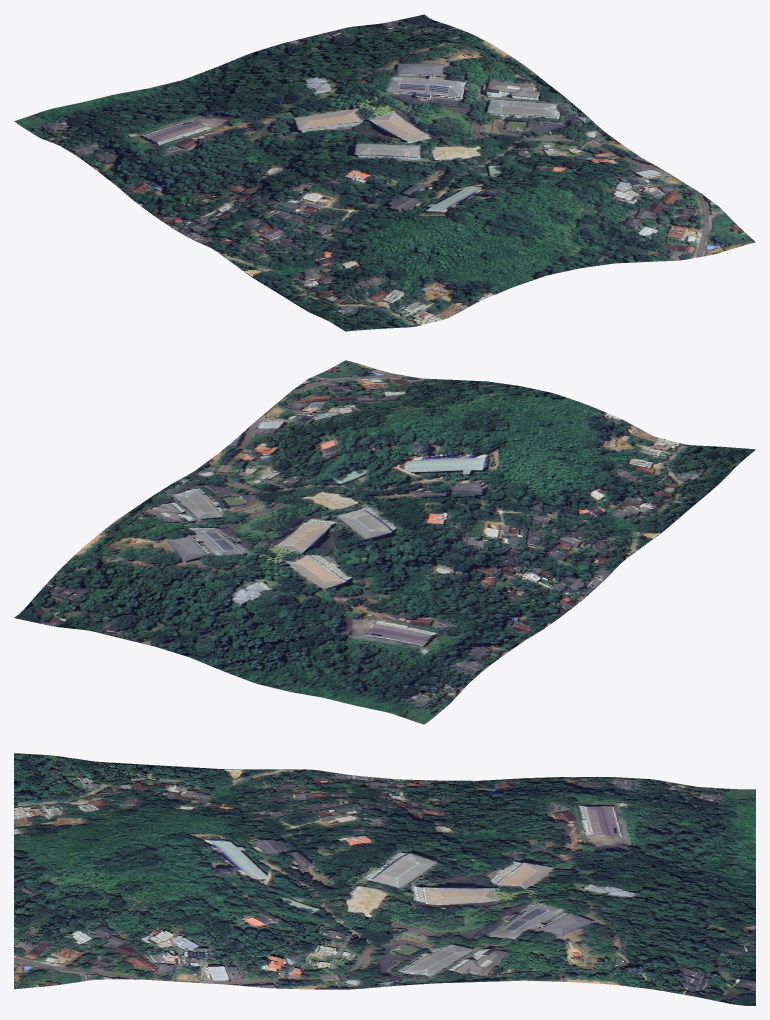
File: terrain.dae
3 renders of one model, top to bottom at view 1: azimuth 30°, elevation 25°; view 2: azimuth 150°, elevation 25°; view 3: azimuth 270°, elevation 25°, orthographic. The views are drawn at different scales.
Parts seen in each view (by area): view 1: EXPORT_GOOGLE_SAT_WM; view 2: EXPORT_GOOGLE_SAT_WM; view 3: EXPORT_GOOGLE_SAT_WM.
Part boxes in pixels (box(x1,y1,x2,y2)): EXPORT_GOOGLE_SAT_WM: box(14, 14, 755, 331); EXPORT_GOOGLE_SAT_WM: box(14, 360, 755, 724); EXPORT_GOOGLE_SAT_WM: box(14, 753, 755, 1005).
Size of the model in its own units: 382 by 535 by 42.69.
1 material, 1 textured.
